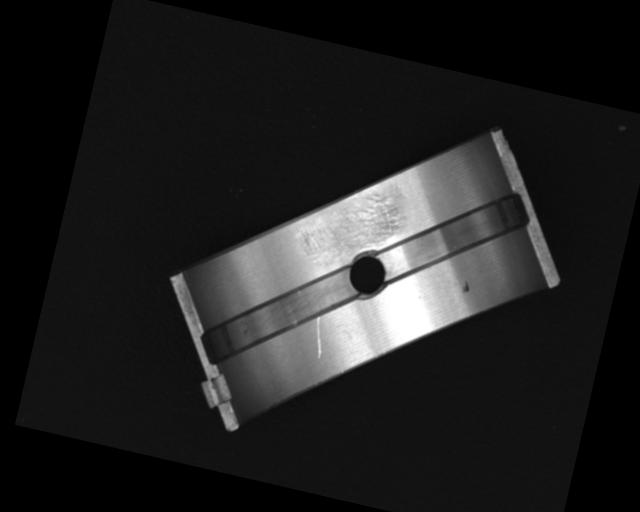bruise: (460, 279, 472, 294)
gap: (199, 246, 366, 385), (377, 170, 534, 304)
hole: (343, 250, 392, 300)
nick: (308, 316, 328, 359)
scratch: (292, 177, 407, 282)
